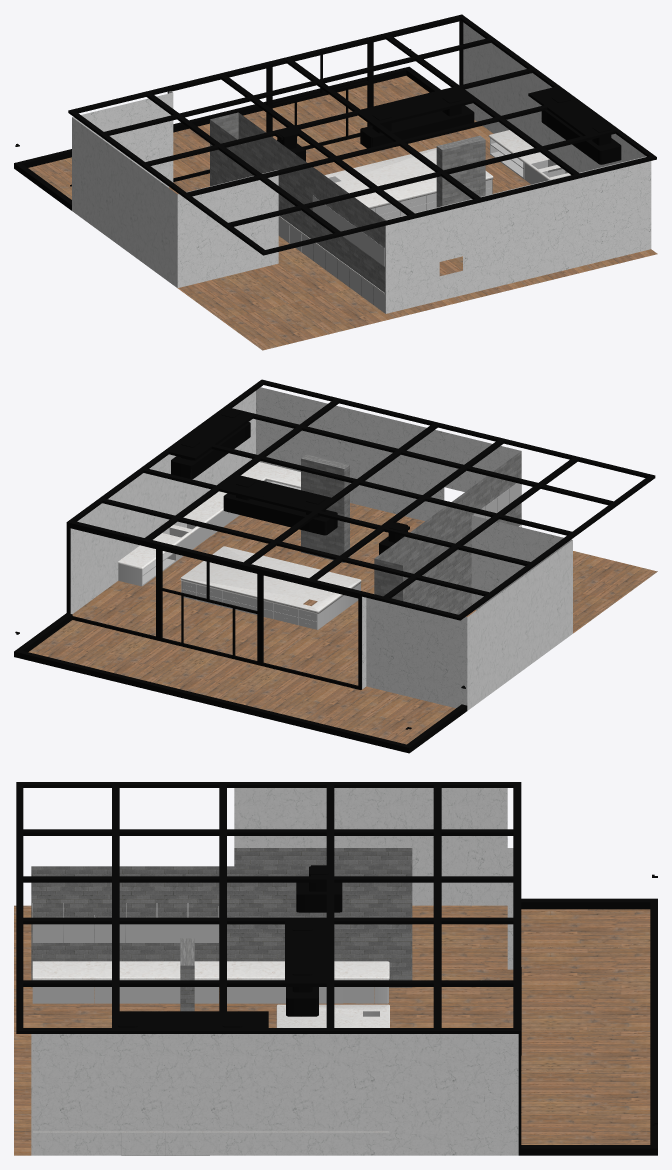
File: replace.fbx
The picture shows the model from 3 angles, top to bottom: view 1: azimuth 30°, elevation 25°; view 2: azimuth 150°, elevation 25°; view 3: azimuth 270°, elevation 25°; orthographic projection. The views are drawn at different scales.
Visible parts, largest first — view 1: env(window+walls+floor+roof), roof, Counter base.004, Left Counter Cabnet 05.006, Right Counter Top.001, Counter base.002, Right Counter Cabinet 01.001, Right Counter Cabnet 02.001; view 2: env(window+walls+floor+roof), roof, Counter base.004, Counter base.002, Right Counter Top.001, Right Counter Cabinet 01.001, Right Counter Cabnet 02.001, Left Counter Cabnet 05.006; view 3: env(window+walls+floor+roof), roof, Left Counter Cabnet 01.001, Left Counter Cabnet 05.006, Counter base.004, Left Counter Cabnet 01.002, Right Counter Top.001, Left Counter Cabnet 06.007, Left Counter Cabnet 06.008, Left Counter Cabnet 03.005, Left Counter Cabnet 05.009.
Boxes of the visible parts, x1=… form: env(window+walls+floor+roof): x1=14, y1=20, x2=657, y2=350; roof: x1=68, y1=14, x2=656, y2=255; Counter base.004: x1=324, y1=148, x2=493, y2=208; Left Counter Cabnet 05.006: x1=312, y1=195, x2=384, y2=266; Right Counter Top.001: x1=488, y1=130, x2=570, y2=180; Counter base.002: x1=328, y1=176, x2=492, y2=219; Right Counter Cabinet 01.001: x1=490, y1=138, x2=524, y2=178; Right Counter Cabnet 02.001: x1=524, y1=160, x2=565, y2=184; env(window+walls+floor+roof): x1=14, y1=387, x2=657, y2=753; roof: x1=66, y1=379, x2=655, y2=620; Counter base.004: x1=180, y1=546, x2=361, y2=613; Counter base.002: x1=181, y1=581, x2=360, y2=629; Right Counter Top.001: x1=117, y1=462, x2=300, y2=569; Right Counter Cabinet 01.001: x1=118, y1=545, x2=176, y2=586; Right Counter Cabnet 02.001: x1=169, y1=520, x2=210, y2=560; Left Counter Cabnet 05.006: x1=473, y1=483, x2=521, y2=519; env(window+walls+floor+roof): x1=14, y1=788, x2=657, y2=1155; roof: x1=16, y1=782, x2=521, y2=1033; Left Counter Cabnet 01.001: x1=32, y1=961, x2=389, y2=979; Left Counter Cabnet 05.006: x1=32, y1=903, x2=218, y2=942; Counter base.004: x1=276, y1=1004, x2=389, y2=1027; Left Counter Cabnet 01.002: x1=343, y1=979, x2=388, y2=1003; Right Counter Top.001: x1=32, y1=1131, x2=389, y2=1132; Left Counter Cabnet 06.007: x1=63, y1=980, x2=94, y2=1003; Left Counter Cabnet 06.008: x1=32, y1=980, x2=63, y2=1003; Left Counter Cabnet 03.005: x1=250, y1=980, x2=281, y2=1003; Left Counter Cabnet 05.009: x1=126, y1=980, x2=156, y2=1003.
Bounding box in the file's own units: 22.05 × 5.16 × 24.
